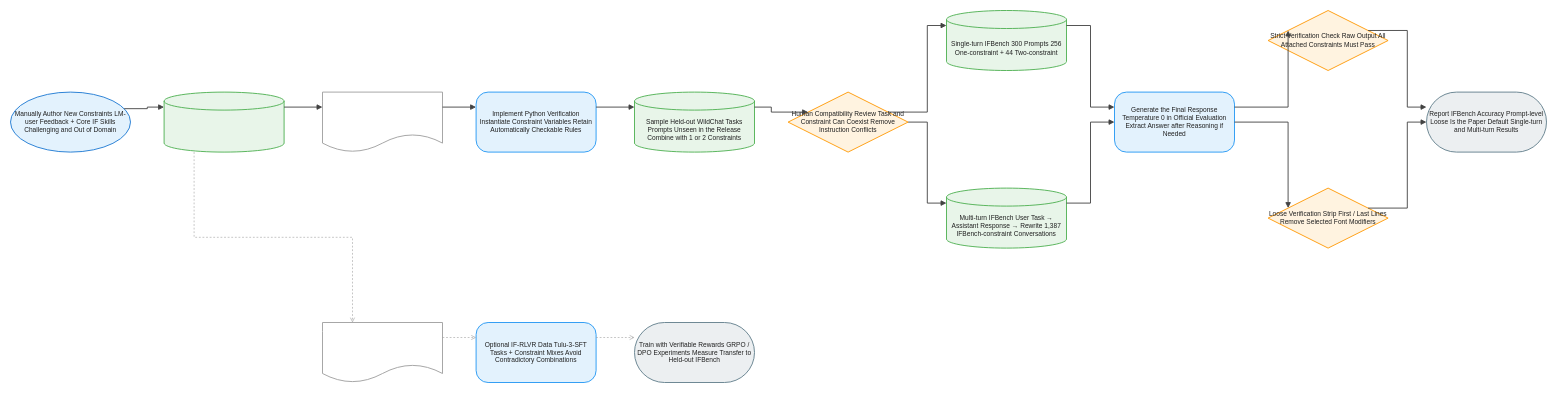
Some shapes in this 1558 by 394 pixel diagram are drawn without their labels. Here are the shapes that lost their labels. From the top down, the box of each, then its label:
(163, 91, 284, 152): Define Constraint Taxonomy Split Train vs Test Templates Seven Broad Categories
(322, 91, 443, 152): Curate IFBench Test Constraints 58 Unseen Templates One Executable Verifier Each
(322, 322, 443, 383): Separate IFTrain Release 29 Unseen Training Constraints Corresponding Verifiers
